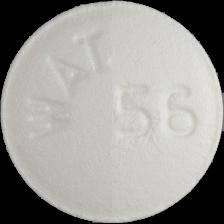0591-3256: (0, 0, 224, 224)
